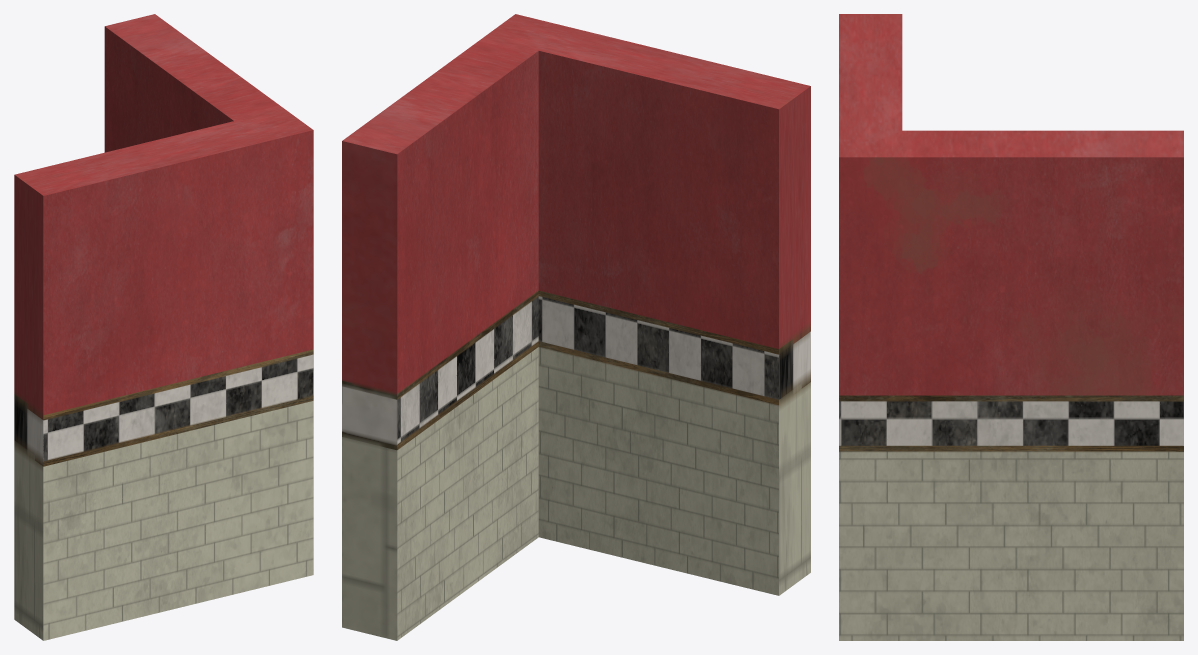
The model's file is Corner Wall.fbx.
The picture shows the model from 3 angles, left to right: view 1: azimuth 30°, elevation 25°; view 2: azimuth 150°, elevation 25°; view 3: azimuth 270°, elevation 25°; orthographic projection. The views are drawn at different scales.
Visible parts, largest first — view 1: Wall.003; view 2: Wall.003; view 3: Wall.003.
Boxes of the visible parts, x1,y1,x2,y2 form: Wall.003: (14,14,313,640); Wall.003: (342,14,810,640); Wall.003: (839,14,1183,640).
Bounding box in the file's own units: 492 × 774 × 500.
